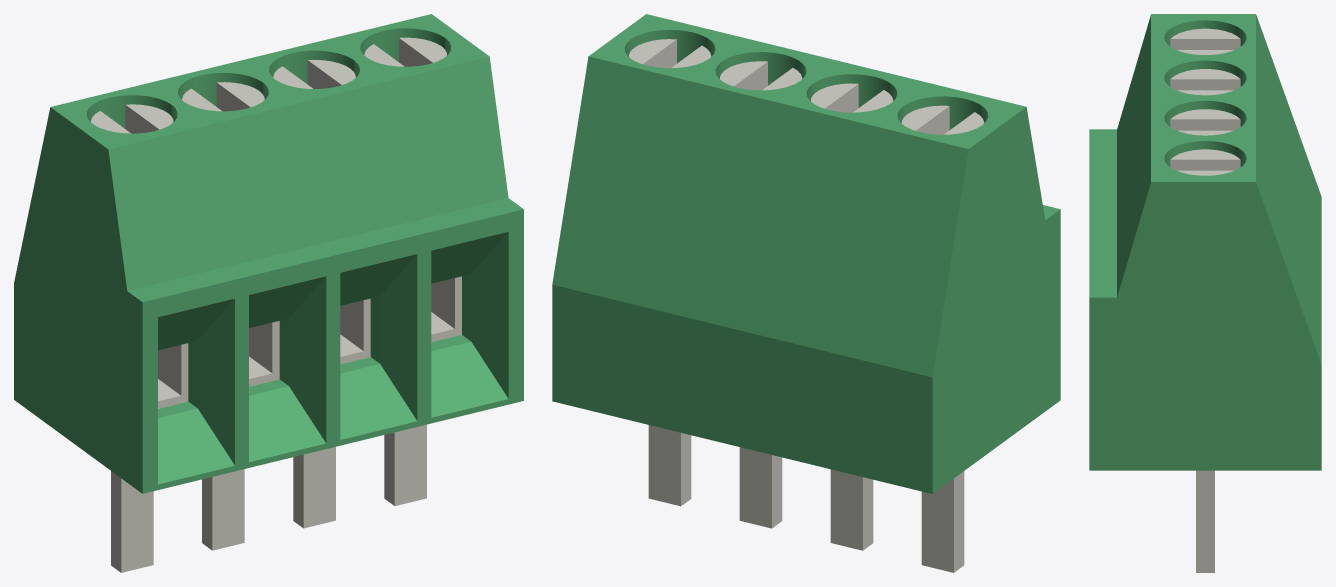
The model's file is kc-terminalblock_phoenix_mpt-0_5-4-2.54_1x04_p2.54mm_horizontal.glb.
3 views of the same model, side by side, from view 1: azimuth 30°, elevation 25°; view 2: azimuth 150°, elevation 25°; view 3: azimuth 270°, elevation 25° (orthographic). The views are drawn at different scales.
Visible parts, largest first — view 1: 0.08333333333333333_0.4166666666666667_0.16666666666666666_0, 0.6666666666666666_0.6666666666666666_0.5833333333333334_0.8; view 2: 0.08333333333333333_0.4166666666666667_0.16666666666666666_0, 0.6666666666666666_0.6666666666666666_0.5833333333333334_0.8; view 3: 0.08333333333333333_0.4166666666666667_0.16666666666666666_0, 0.6666666666666666_0.6666666666666666_0.5833333333333334_0.8.
Part boxes in pixels (box(x1,y1,x2,y2)): 0.08333333333333333_0.4166666666666667_0.16666666666666666_0: box(14, 14, 523, 493); 0.6666666666666666_0.6666666666666666_0.5833333333333334_0.8: box(90, 37, 461, 572); 0.08333333333333333_0.4166666666666667_0.16666666666666666_0: box(552, 14, 1060, 493); 0.6666666666666666_0.6666666666666666_0.5833333333333334_0.8: box(629, 39, 984, 572); 0.08333333333333333_0.4166666666666667_0.16666666666666666_0: box(1089, 14, 1321, 470); 0.6666666666666666_0.6666666666666666_0.5833333333333334_0.8: box(1170, 28, 1240, 572).
Bounding box in the file's own units: 1.06 × 1.2 × 0.62.
